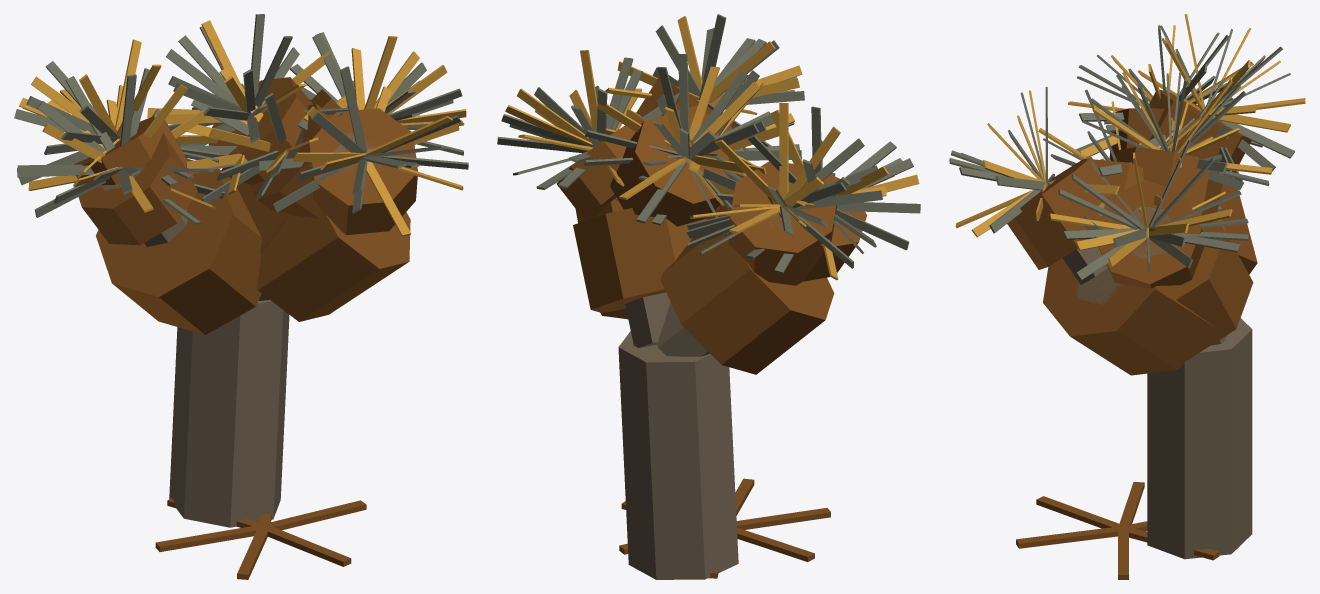
Rendered from desert_joshua_small.glb.
3 renders of one model, left to right at view 1: azimuth 30°, elevation 25°; view 2: azimuth 150°, elevation 25°; view 3: azimuth 270°, elevation 25°, orthographic. The views are drawn at different scales.
Visible parts, largest first — view 1: desert_joshua_small; view 2: desert_joshua_small; view 3: desert_joshua_small.
Boxes of the visible parts, <box> form: desert_joshua_small: <box>14,14,468,579</box>; desert_joshua_small: <box>497,14,920,579</box>; desert_joshua_small: <box>949,14,1305,579</box>.
Bounding box in the file's own units: 2.48 × 2.83 × 1.93.
